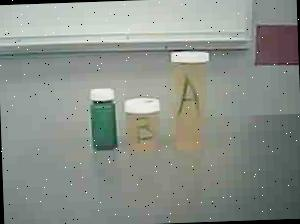Bottle A: (166, 40, 216, 155)
Bottle B: (121, 94, 163, 153)
Bottle C: (82, 81, 120, 158)
